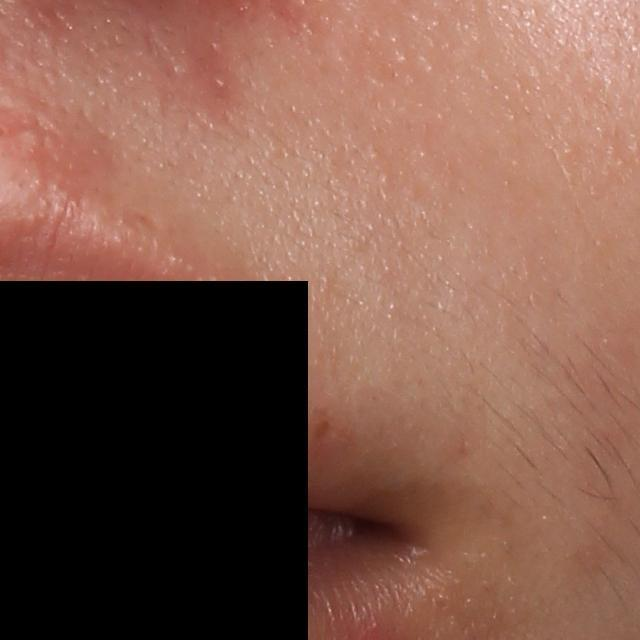atrophic_scar: (144, 25, 179, 85)
